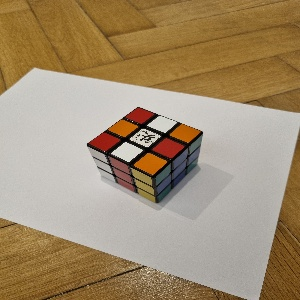cube: (86, 107, 204, 204)
